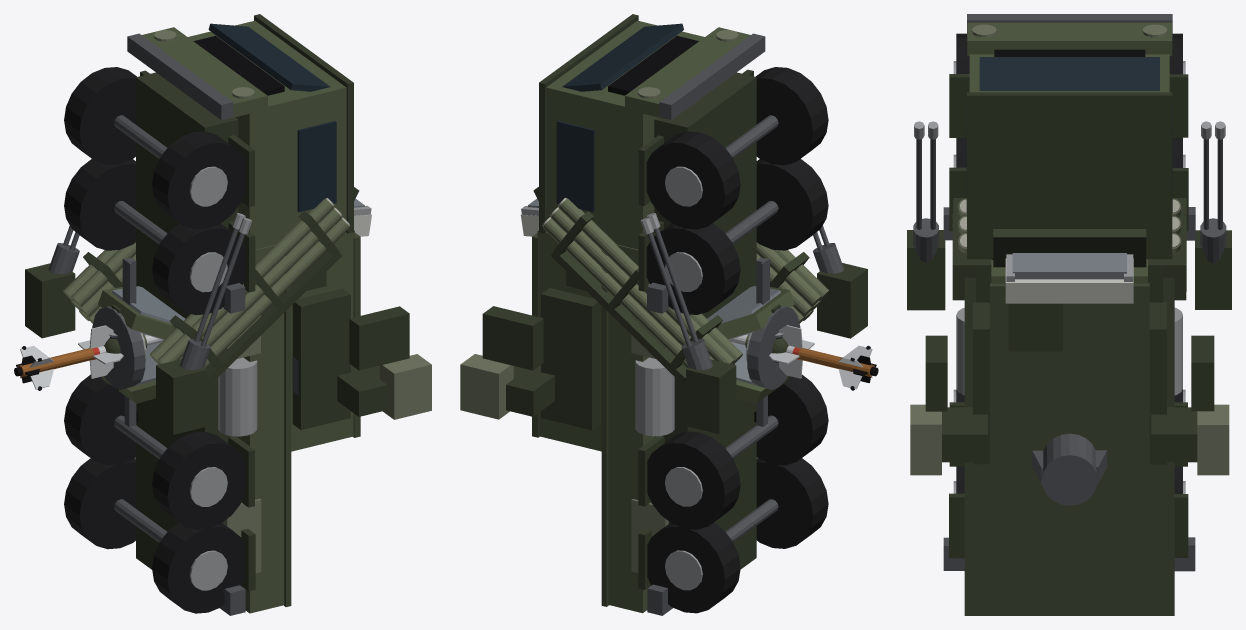
The model's file is KSArmory_MeshAtlas.glb.
The picture shows the model from 3 angles, left to right: view 1: azimuth 30°, elevation 25°; view 2: azimuth 150°, elevation 25°; view 3: azimuth 270°, elevation 25°; orthographic projection. The views are drawn at different scales.
Visible parts, largest first — view 1: KSArmory_Subpart_Chassis, KSArmory_Subpart_Turret, KSArmory_Subpart_Pods, KSArmory_Subpart_Guns, KSArmory_Subpart_Radar, KSArmory_Subpart_Fins, KSArmory_Subpart_SidewinderRail, KSArmory_Subpart_Missile, KSArmory_Subpart_Aim9; view 2: KSArmory_Subpart_Chassis, KSArmory_Subpart_Turret, KSArmory_Subpart_Pods, KSArmory_Subpart_Guns, KSArmory_Subpart_Radar, KSArmory_Subpart_Fins, KSArmory_Subpart_Missile, KSArmory_Subpart_SidewinderRail, KSArmory_Subpart_Aim9; view 3: KSArmory_Subpart_Chassis, KSArmory_Subpart_Turret, KSArmory_Subpart_Guns, KSArmory_Subpart_Pods.
Boxes of the visible parts, x1,y1,x2,y2 form: KSArmory_Subpart_Chassis: (64, 14, 353, 615); KSArmory_Subpart_Turret: (291, 187, 431, 451); KSArmory_Subpart_Pods: (63, 198, 350, 383); KSArmory_Subpart_Guns: (25, 213, 251, 434); KSArmory_Subpart_Radar: (92, 286, 185, 403); KSArmory_Subpart_Fins: (16, 325, 123, 383); KSArmory_Subpart_SidewinderRail: (111, 257, 138, 426); KSArmory_Subpart_Missile: (14, 335, 163, 376); KSArmory_Subpart_Aim9: (20, 345, 53, 390); KSArmory_Subpart_Chassis: (539, 14, 828, 615); KSArmory_Subpart_Turret: (460, 187, 601, 451); KSArmory_Subpart_Pods: (542, 198, 829, 382); KSArmory_Subpart_Guns: (640, 213, 867, 434); KSArmory_Subpart_Radar: (707, 286, 800, 403); KSArmory_Subpart_Fins: (769, 325, 876, 382); KSArmory_Subpart_Missile: (729, 334, 878, 376); KSArmory_Subpart_SidewinderRail: (754, 257, 780, 426); KSArmory_Subpart_Aim9: (838, 345, 872, 390); KSArmory_Subpart_Chassis: (943, 14, 1195, 615); KSArmory_Subpart_Turret: (910, 229, 1229, 505); KSArmory_Subpart_Guns: (907, 121, 1231, 310); KSArmory_Subpart_Pods: (952, 198, 1186, 300).
Size of the model in its own units: 5.67 by 8.04 by 4.18.
1 material, 1 textured.
